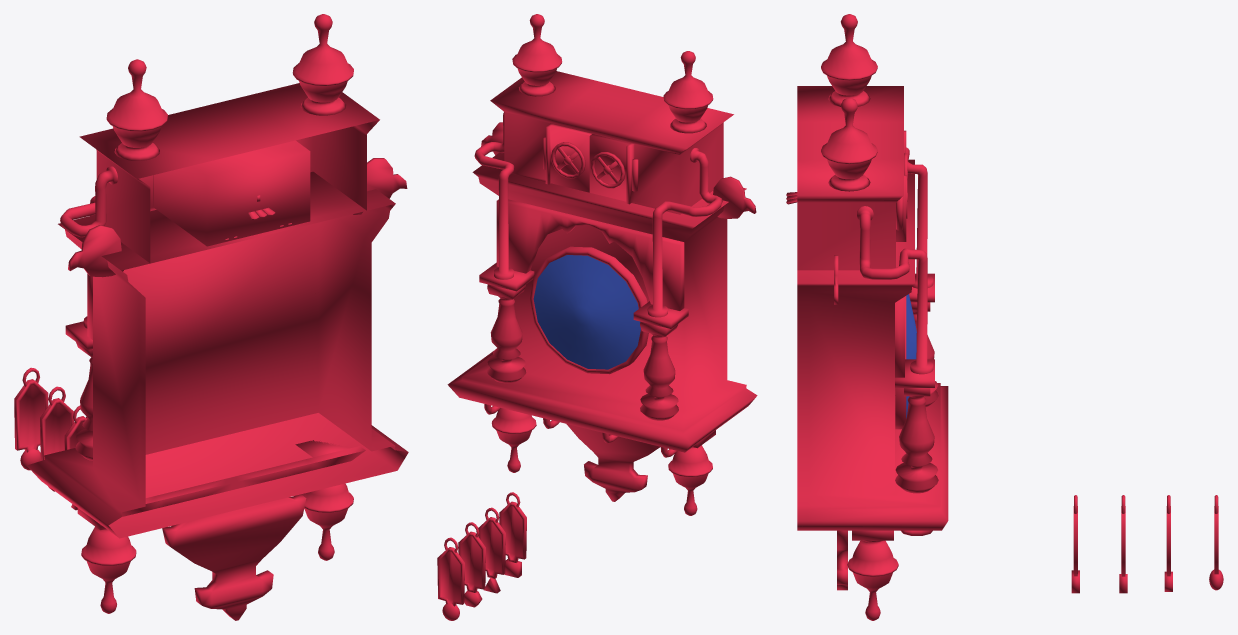
File: M_Horloge_Coucou.fbx
The picture shows the model from 3 angles, left to right: view 1: azimuth 30°, elevation 25°; view 2: azimuth 150°, elevation 25°; view 3: azimuth 270°, elevation 25°; orthographic projection. The views are drawn at different scales.
Visible parts, largest first — view 1: Horloge_Coucou_Bloc, Medaillon4_Sphere, Medaillon3_Hexagone; view 2: Horloge_Coucou_Bloc, Cadran_Verre, Porte_Gauche, Porte_Droite, Medaillon4_Sphere, Medaillon1_Cube, Medaillon3_Hexagone, Medaillon2_Triangle, Engrenage_Droit, Engrenage_Gauche; view 3: Horloge_Coucou_Bloc, Cadran_Verre, Medaillon4_Sphere.
Boxes of the visible parts, box(x1,y1,x2,y2) form: Horloge_Coucou_Bloc: box(27, 14, 408, 620); Medaillon4_Sphere: box(14, 367, 48, 470); Medaillon3_Hexagone: box(40, 386, 73, 491); Horloge_Coucou_Bloc: box(447, 14, 757, 515); Cadran_Verre: box(533, 255, 640, 369); Porte_Gauche: box(545, 123, 591, 192); Porte_Droite: box(589, 134, 634, 204); Medaillon4_Sphere: box(437, 537, 464, 620); Medaillon1_Cube: box(499, 492, 526, 577); Medaillon3_Hexagone: box(458, 522, 485, 607); Medaillon2_Triangle: box(478, 507, 505, 593); Engrenage_Droit: box(590, 152, 625, 188); Engrenage_Gauche: box(551, 142, 585, 178); Horloge_Coucou_Bloc: box(797, 14, 948, 620); Cadran_Verre: box(906, 294, 916, 418); Medaillon4_Sphere: box(1209, 495, 1223, 590).
Bounding box in the file's own units: 72.19 × 118 × 87.99.
